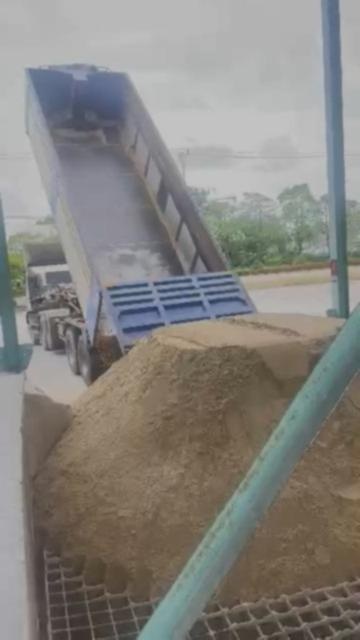sand: (35, 315, 339, 596), (221, 380, 360, 599), (22, 382, 72, 480)
